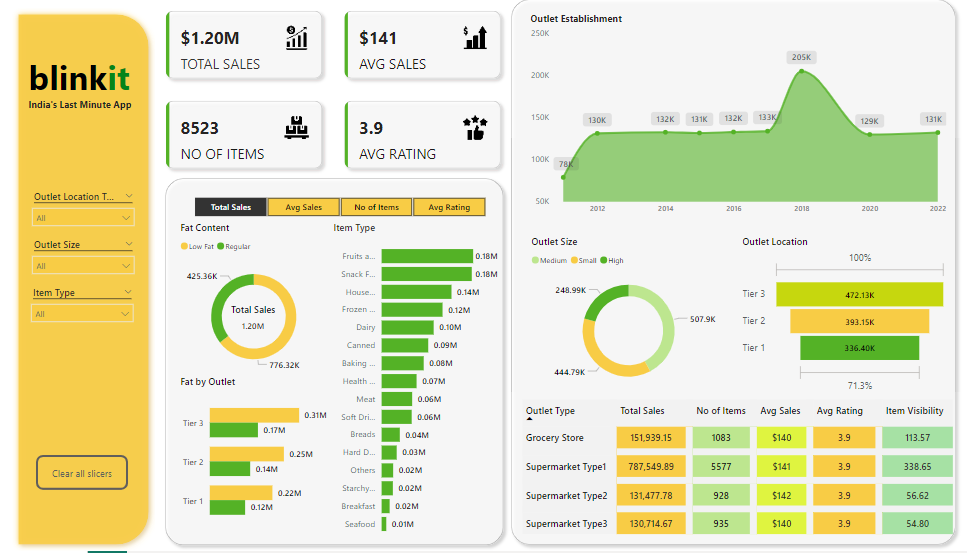

This screenshot's page, from the dashboard's own definition file:
{"tool":"powerbi","page":{"name":"Dashboard","canvas":[1400,800],"ordinal":0},"visuals":[{"type":"shape","box":[725,0,655,800],"z":0},{"type":"shape","box":[18.3,21.7,205,778.3],"z":1000},{"type":"textbox","box":[36.7,81.7,166.7,85],"z":2000},{"type":"shape","box":[229.7,256,503,544],"z":3000},{"type":"textbox","box":[36.7,146.7,176.7,30],"z":4000},{"type":"donutChart","title":"Fat Content","fields":{"Y":["BlinkIT Grocery Data.Total Sales"],"Category":["BlinkIT Grocery Data.Item Fat Content"]},"box":[255,327.5,220,230],"z":5000},{"type":"cardVisual","fields":{"Data":["Sum(BlinkIT Grocery Data.Sales)","BlinkIT Grocery Data.Avg Sales","BlinkIT Grocery Data.No of Items","BlinkIT Grocery Data.Avg Rating"]},"box":[222.9,8.6,515.7,260],"z":6000},{"type":"slicer","fields":{"Values":["Metrics.Metrics"]},"box":[255.2,287.1,465.7,40],"z":7000},{"type":"cardVisual","fields":{"Data":["BlinkIT Grocery Data.Total Sales"]},"box":[313.8,427.1,101.4,70],"z":8000},{"type":"donutChart","title":"Outlet Size","fields":{"Y":["BlinkIT Grocery Data.Total Sales"],"Category":["BlinkIT Grocery Data.Outlet Size"]},"box":[758.1,347.1,288.6,230],"z":9000},{"type":"clusteredBarChart","title":"Fat by Outlet","fields":{"Y":["BlinkIT Grocery Data.Total Sales"],"Category":["BlinkIT Grocery Data.Outlet Location Type"],"Series":["BlinkIT Grocery Data.Item Fat Content"]},"box":[255.7,548,220,230],"z":10000},{"type":"lineChart","title":"Outlet Establishment","fields":{"Category":["BlinkIT Grocery Data.Outlet Establishment Year"],"Y":["BlinkIT Grocery Data.Total Sales"]},"box":[757.7,27,606,300],"z":11000},{"type":"barChart","title":"Item Type","fields":{"Y":["BlinkIT Grocery Data.Total Sales"],"Category":["BlinkIT Grocery Data.Item Type"]},"box":[475.2,327.1,245.7,460],"z":12000},{"type":"funnel","title":"Outlet Location","fields":{"Category":["BlinkIT Grocery Data.Outlet Location Type"],"Y":["BlinkIT Grocery Data.Total Sales"]},"box":[1061,347.1,302.9,230],"z":13000},{"type":"pivotTable","fields":{"Rows":["BlinkIT Grocery Data.Outlet Type"],"Values":["BlinkIT Grocery Data.Total Sales","BlinkIT Grocery Data.No of Items","BlinkIT Grocery Data.Avg Sales","BlinkIT Grocery Data.Avg Rating","Sum(BlinkIT Grocery Data.Item Visibility)"]},"box":[745.2,577.1,630,210],"z":14000},{"type":"slicer","fields":{"Values":["BlinkIT Grocery Data.Outlet Location Type"]},"box":[36.7,278.6,167.1,68.6],"z":15000},{"type":"slicer","fields":{"Values":["BlinkIT Grocery Data.Outlet Size"]},"box":[36.7,347.1,167.1,68.6],"z":16000},{"type":"slicer","fields":{"Values":["BlinkIT Grocery Data.Item Type"]},"box":[35.2,415.7,167.1,68.6],"z":17000},{"type":"actionButton","box":[53,663,132,50],"z":17001}]}

Visuals, with their boxes in screenshot pixels (x1, y1, x2, y2), scaled from the page's 1400x800 canvas onto the 967x553 screenshot:
shape: (501,0,953,552)
shape: (13,15,154,552)
textbox: (25,56,140,115)
shape: (159,177,506,552)
textbox: (25,101,147,122)
"Fat Content" donutChart: (176,226,328,385)
cardVisual - Sum(BlinkIT Grocery Data.Sales) x BlinkIT Grocery Data.Avg Sales: (154,6,510,186)
slicer - Metrics.Metrics: (176,198,498,226)
cardVisual - BlinkIT Grocery Data.Total Sales: (217,295,287,344)
"Outlet Size" donutChart: (524,240,723,399)
"Fat by Outlet" clusteredBarChart: (177,379,329,538)
"Outlet Establishment" lineChart: (523,19,942,226)
"Item Type" barChart: (328,226,498,544)
"Outlet Location" funnel: (733,240,942,399)
pivotTable - BlinkIT Grocery Data.Outlet Type x BlinkIT Grocery Data.Total Sales: (515,399,950,544)
slicer - BlinkIT Grocery Data.Outlet Location Type: (25,193,141,240)
slicer - BlinkIT Grocery Data.Outlet Size: (25,240,141,287)
slicer - BlinkIT Grocery Data.Item Type: (24,287,140,335)
actionButton: (37,458,128,493)
